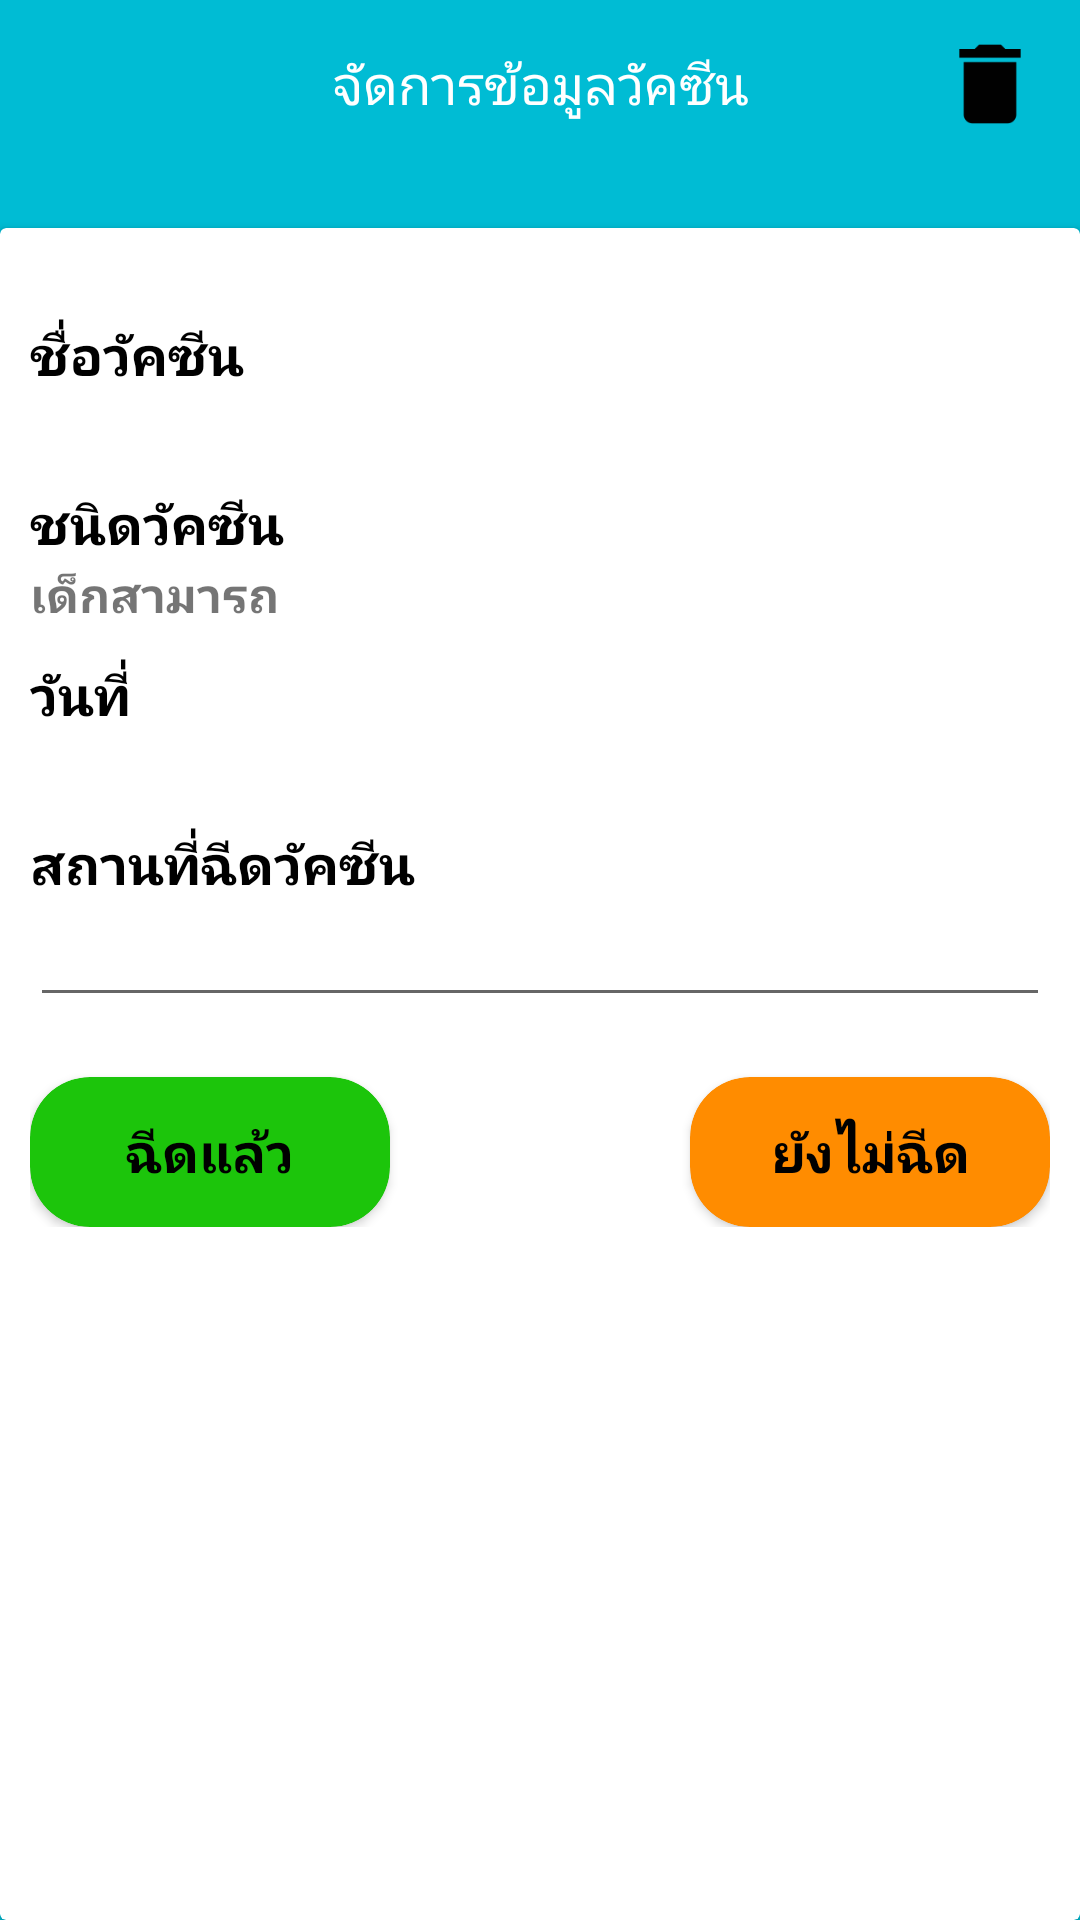

Icons on this 1080 × 1920 Android screen, each with the point to tap as [x,y]:
delete: [990,84]
